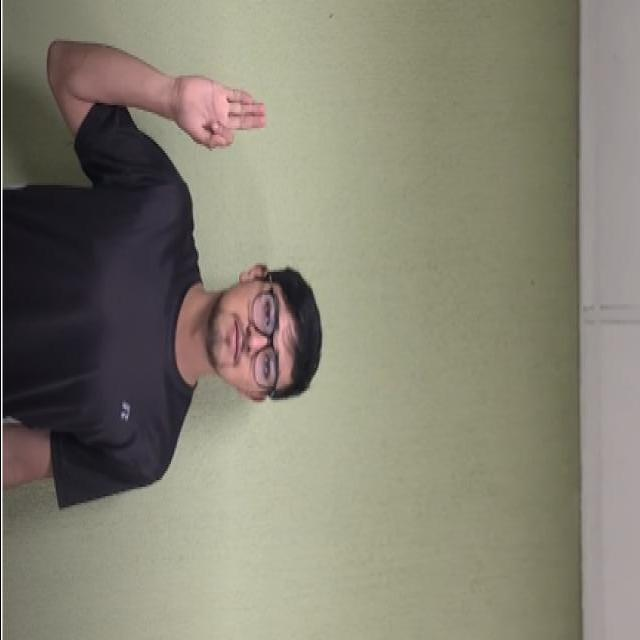F: (165, 57, 276, 169)
